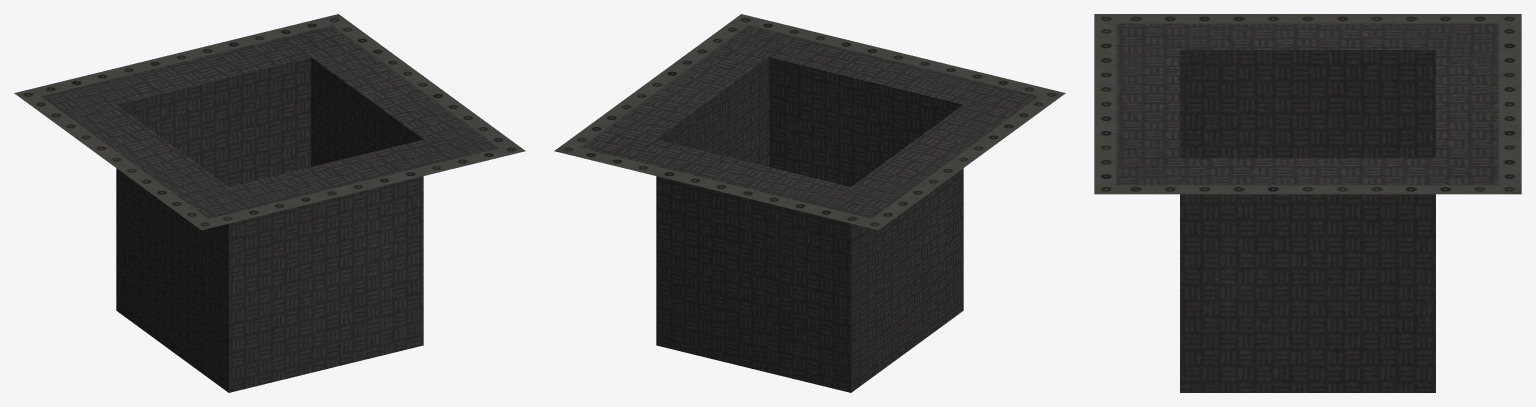
Rendered from Suelos_Exit_bola.fbx.
3 renders of one model, left to right at view 1: azimuth 30°, elevation 25°; view 2: azimuth 150°, elevation 25°; view 3: azimuth 270°, elevation 25°, orthographic. The views are drawn at different scales.
Visible parts, largest first — view 1: Plane; view 2: Plane; view 3: Plane.
Boxes of the visible parts, x1,y1,x2,y2 form: Plane: (14,14,525,392); Plane: (554,14,1065,392); Plane: (1094,14,1521,392).
Bounding box in the file's own units: 2 × 1.21 × 2.
